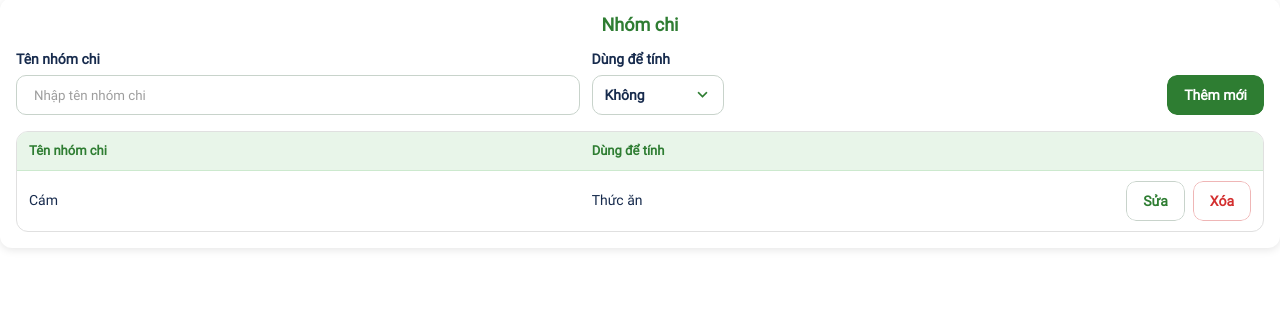
Test: lỗi server hiện nguyên văn
Type "Cám" into the field with id "expenseCategory-new-categoryName". click: (298, 95)
box: [18,77,579,113]
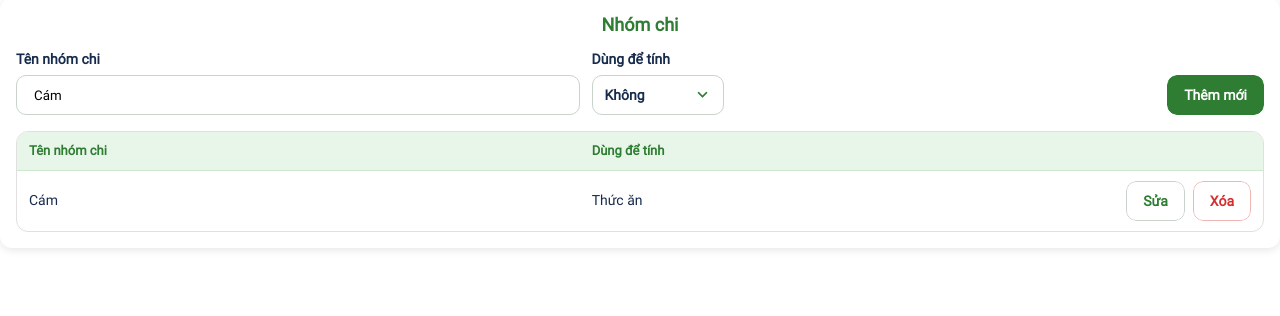
Click the button "Thêm mới". click: (1216, 95)
box: [1167,75,1264,115]
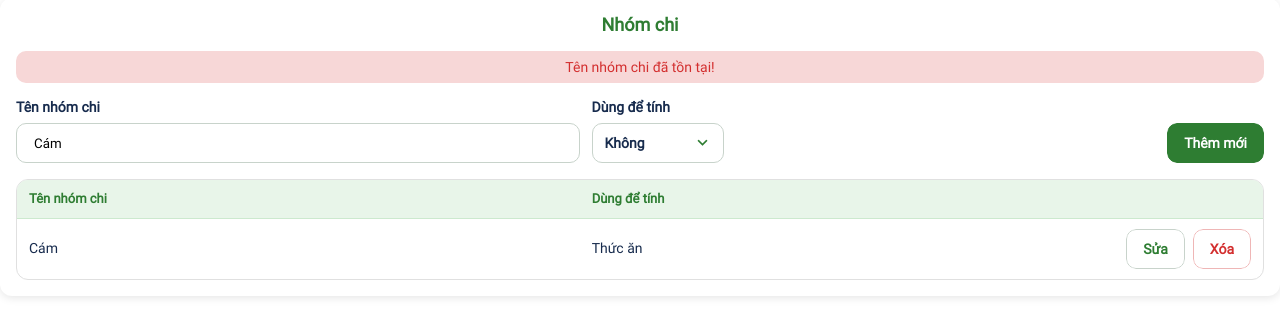
Check: the text with class "error-message" reads "Tên nhóm chi đã tồn tại!", box [565,59,715,75]
